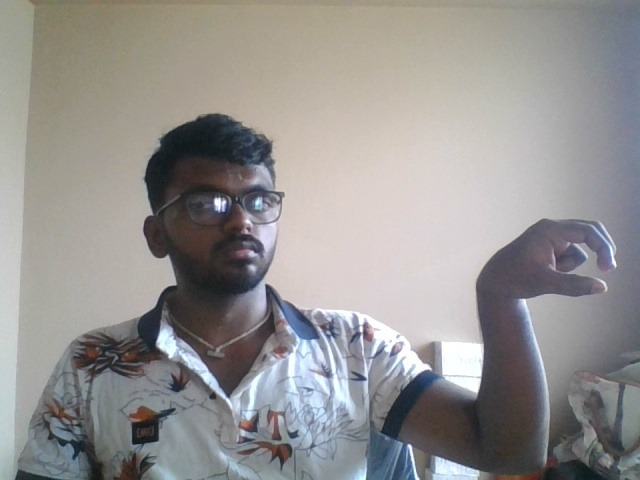No: (440, 167, 629, 333)
